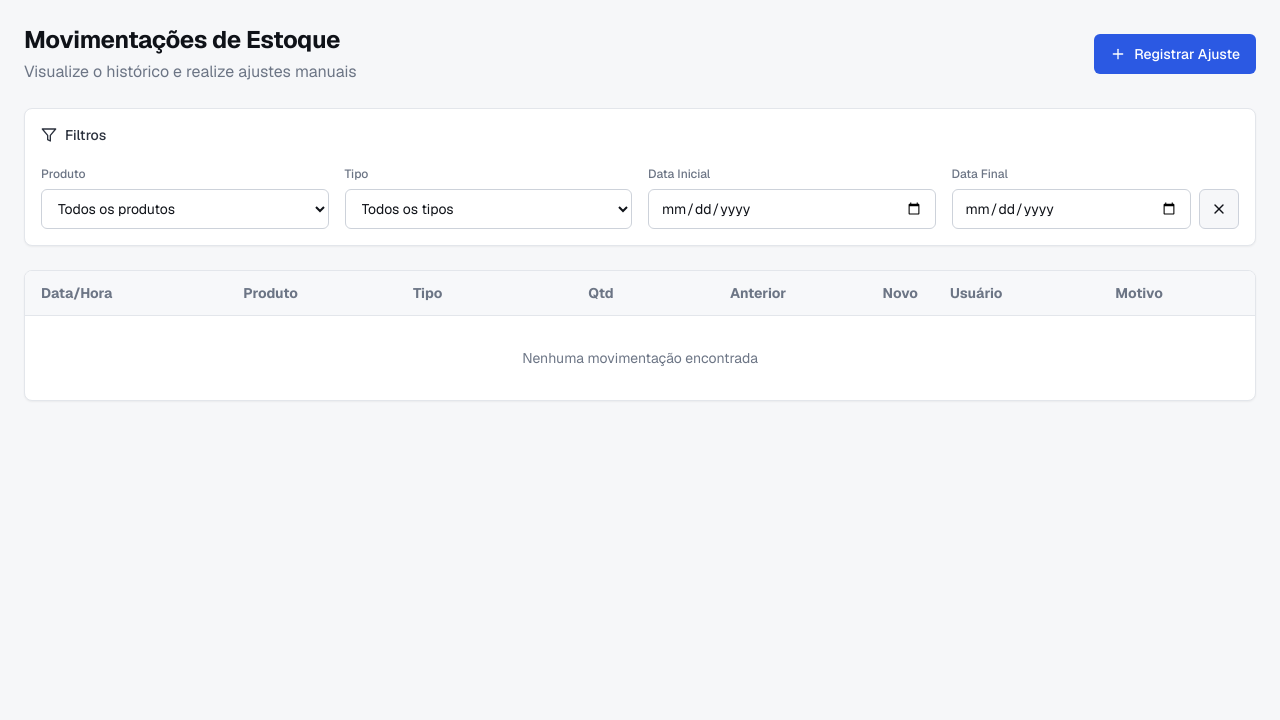
Test: MovimentacoesEstoque — ajuste manual › 13. fluxo visual continua funcionando (produto/tipo/qtd/motivo → toast)
Click the button "Registrar Ajuste" at (1175, 54), box [1094,34,1256,74]
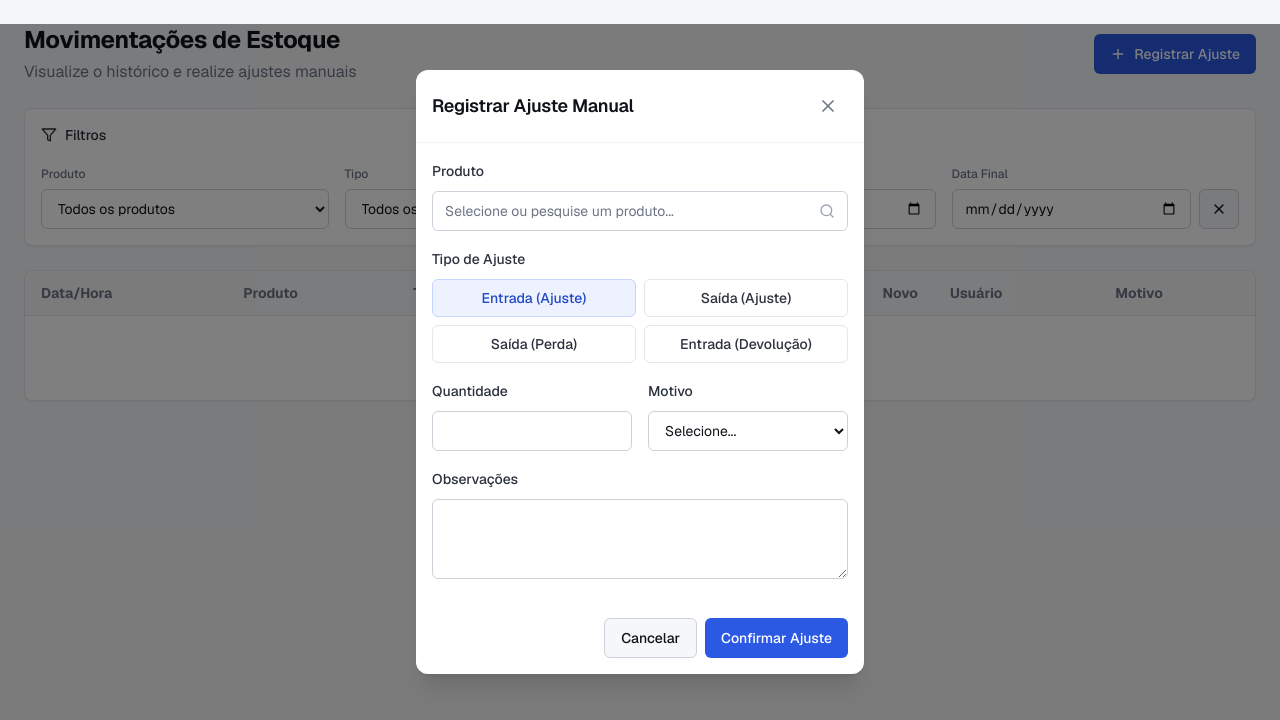
Click the text "Selecione ou pesquise um produto..." at (559, 211), box [445,201,674,221]
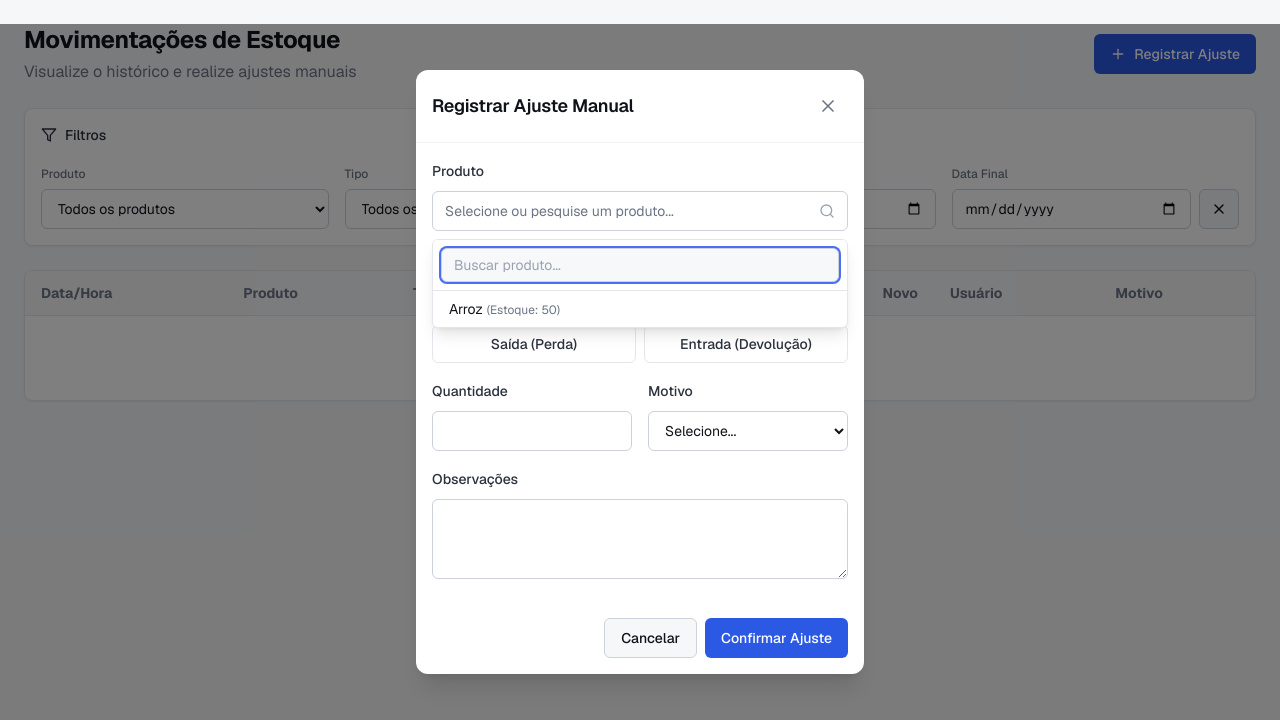
Click the text "Arroz" at (504, 309), box [449,299,560,319]
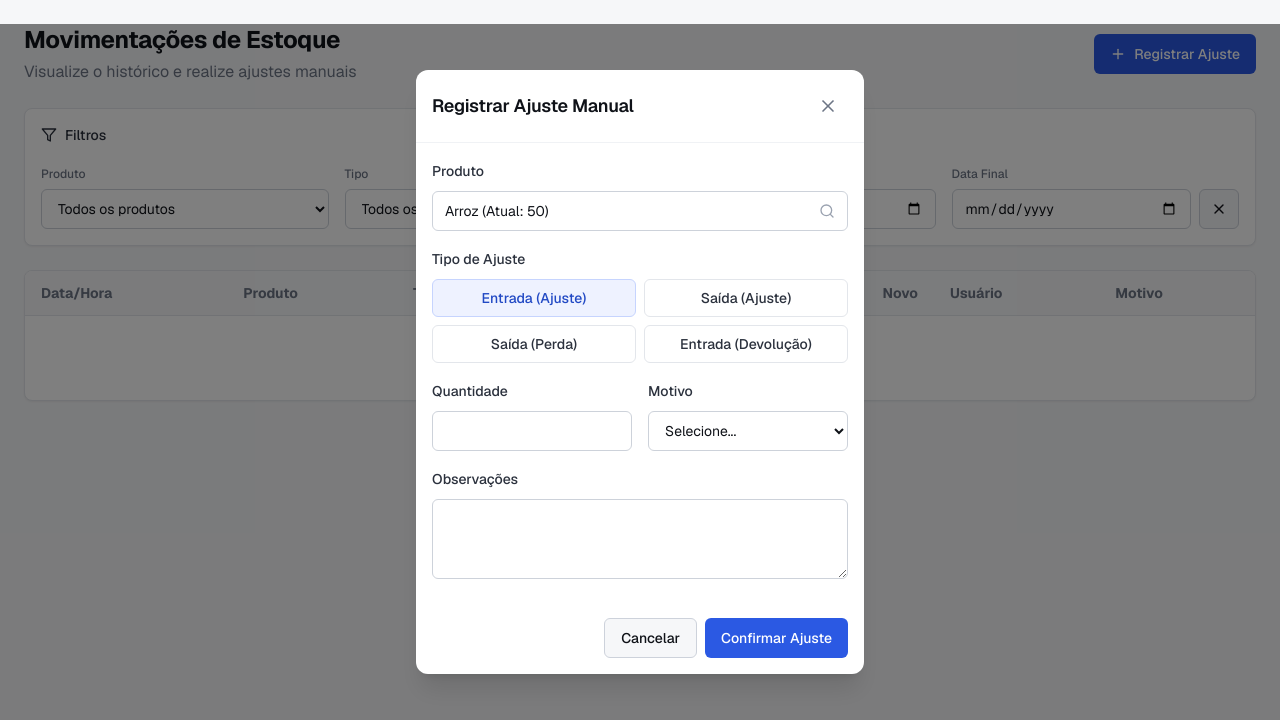
Type "5" into the number field at (532, 431), box [432,411,632,451]
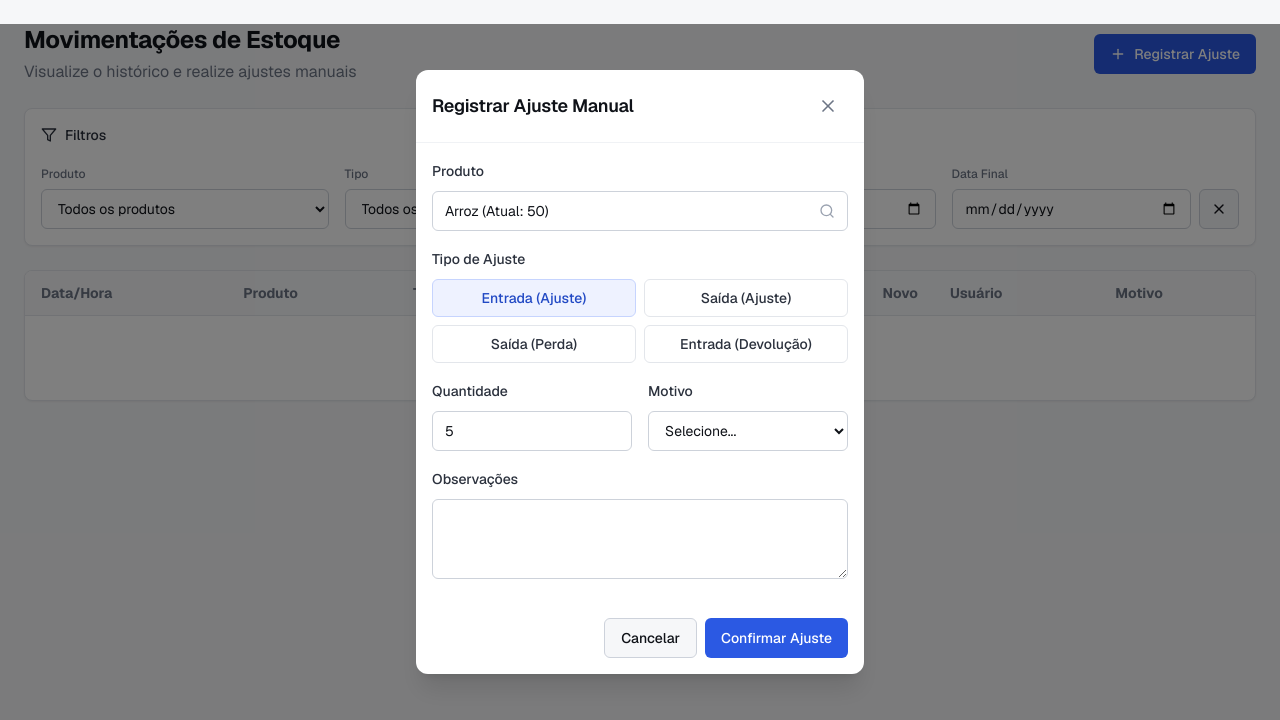
Select "Inventário" in the dropdown at (748, 431), box [648,411,848,451]
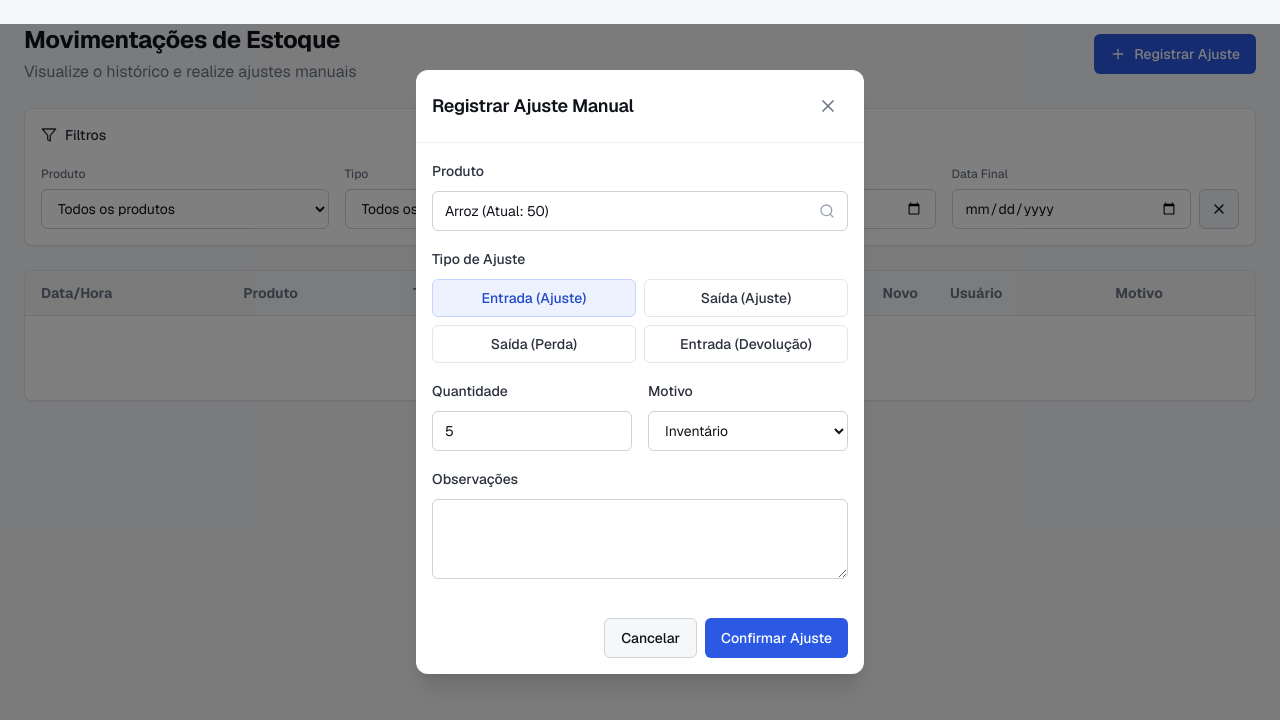
Click the button "Confirmar Ajuste" at (777, 638), box [705,618,848,658]
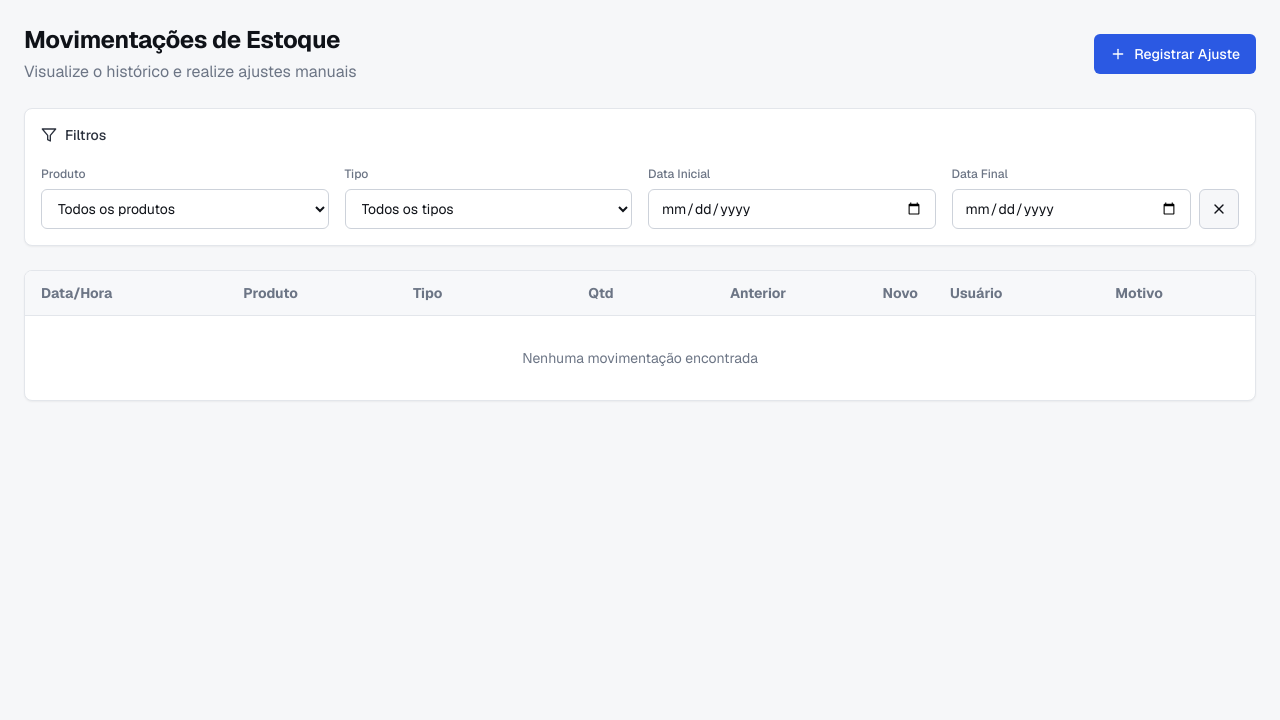
Result: the heading "Registrar Ajuste Manual" is gone
